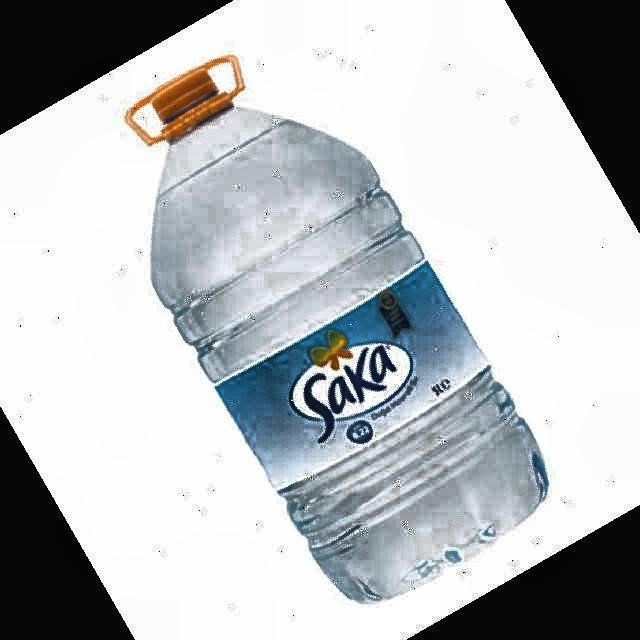plastic: (126, 56, 549, 601)
